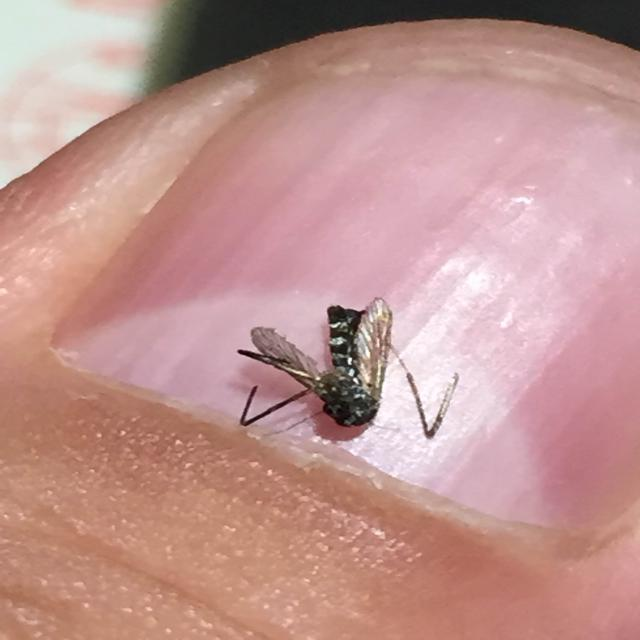albopictus: (225, 280, 464, 441)
